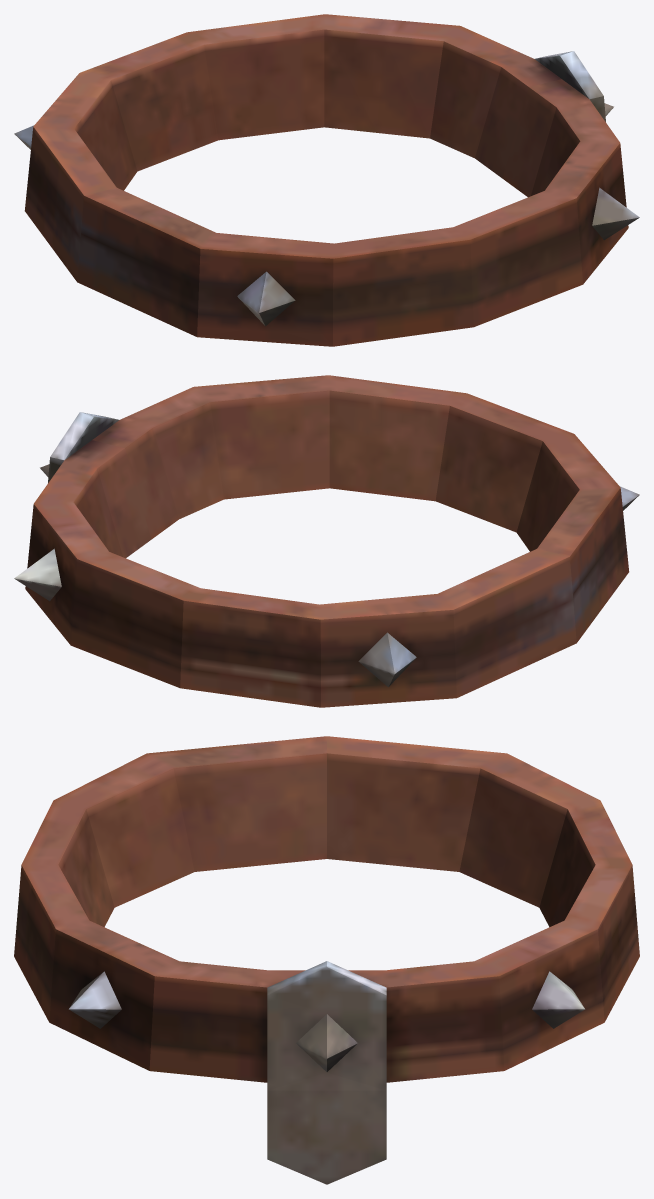
The model's file is BARBARIAN HAT.fbx.
The picture shows the model from 3 angles, top to bottom: view 1: azimuth 30°, elevation 25°; view 2: azimuth 150°, elevation 25°; view 3: azimuth 270°, elevation 25°; orthographic projection. The views are drawn at different scales.
Visible parts, largest first — view 1: BARBARIAN_HAT; view 2: BARBARIAN_HAT; view 3: BARBARIAN_HAT.
Boxes of the visible parts, <box> form: BARBARIAN_HAT: <box>14,14,639,346</box>; BARBARIAN_HAT: <box>14,375,639,707</box>; BARBARIAN_HAT: <box>14,736,639,1184</box>.
Size of the model in its own units: 28.44 by 9.87 by 26.63.
